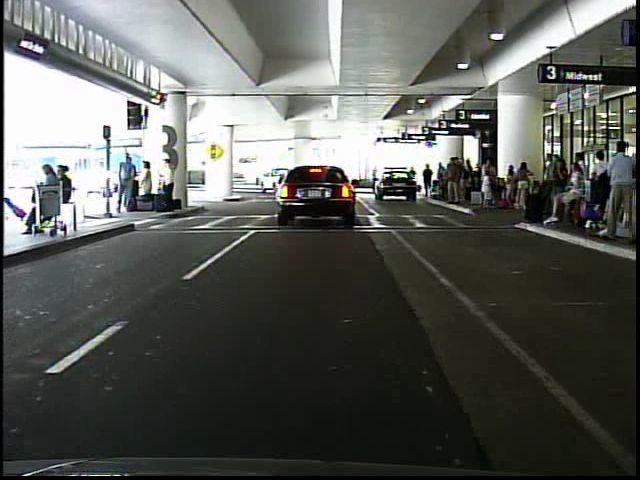person: (597, 138, 636, 237), (111, 151, 140, 217), (160, 155, 177, 211), (141, 160, 157, 208), (422, 162, 435, 197), (409, 162, 418, 192)
